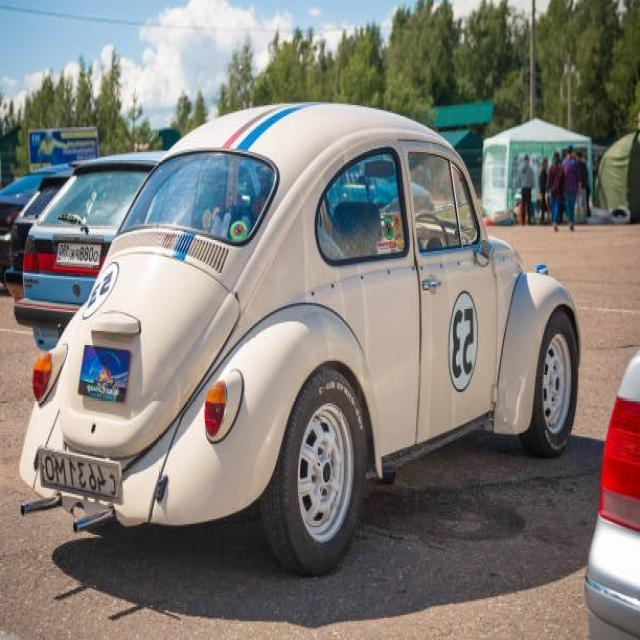car: (18, 106, 587, 552)
